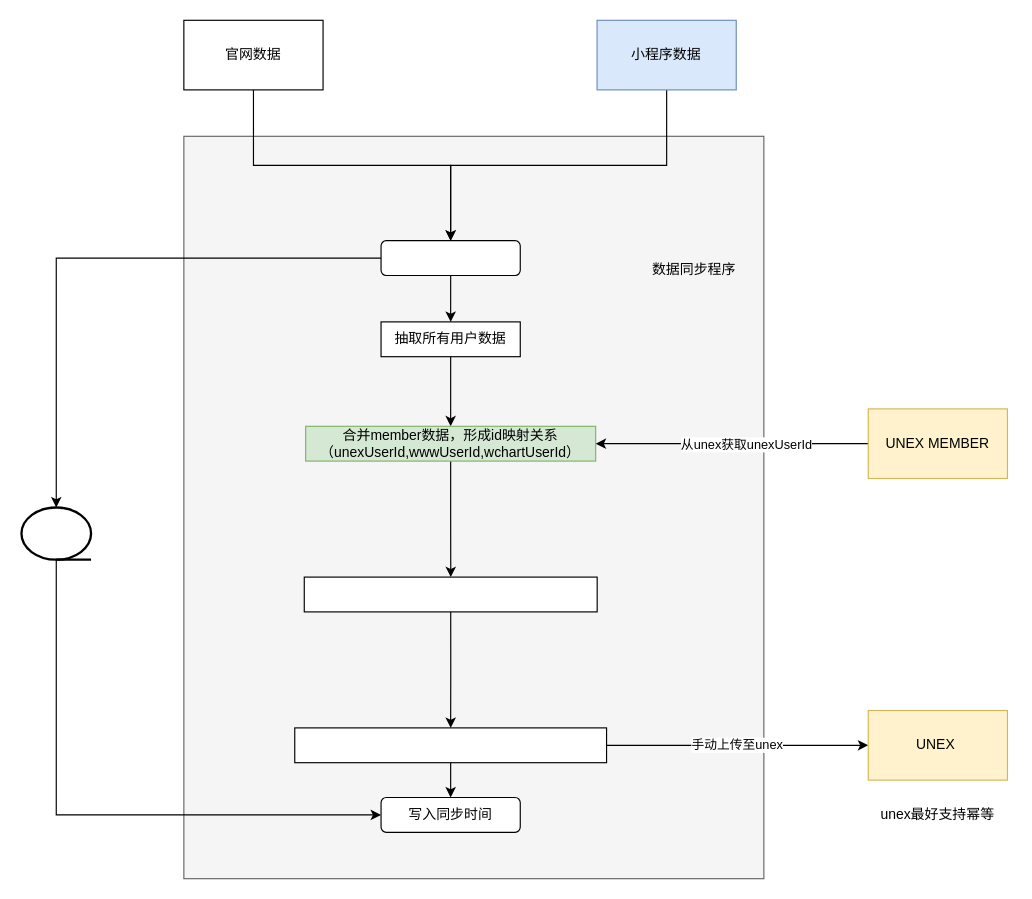
Some shapes in this 1032 by 899 pixel diagram are drawn without their labels. The centre of each missing label's shape, as x and y in pixels:
"循环" goes at [56,533].
"按照映射关系替换数据中用户id" goes at [450,594].
"生成insert OR update csv文件" goes at [450,745].
"获取上次同步时间" goes at [450,258].
